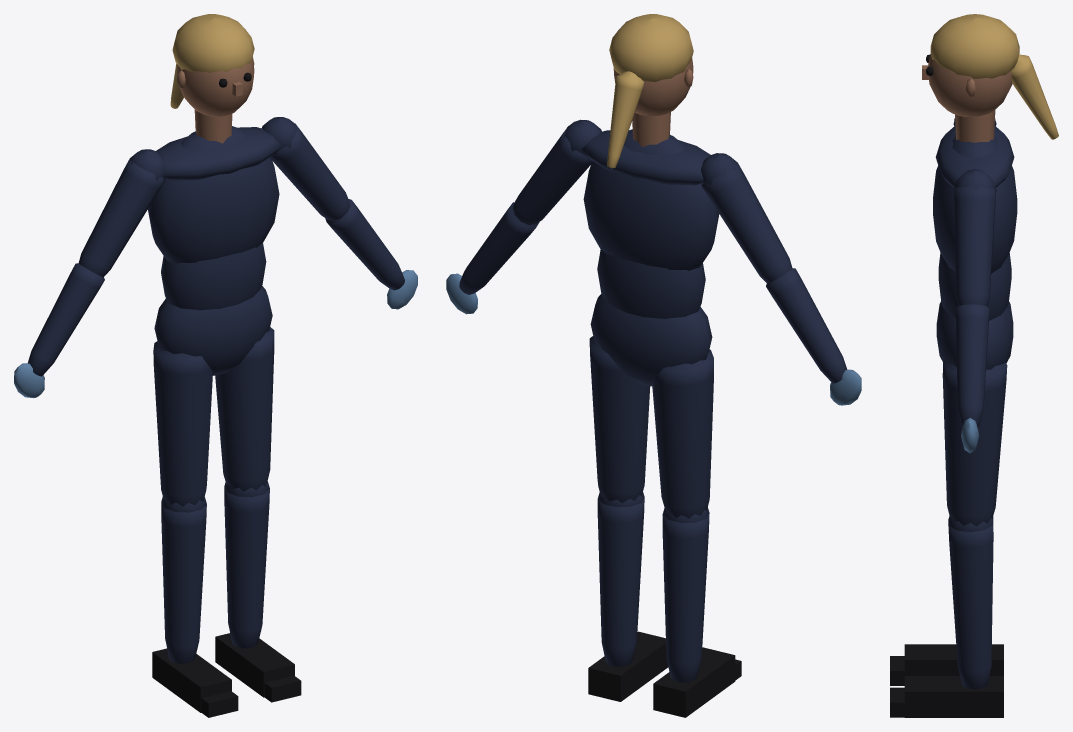
The model's file is Lind.obj.
3 renders of one model, left to right at view 1: azimuth 30°, elevation 25°; view 2: azimuth 150°, elevation 25°; view 3: azimuth 270°, elevation 25°, orthographic. The views are drawn at different scales.
Visible parts, largest first — view 1: Lind; view 2: Lind; view 3: Lind.
Boxes of the visible parts, bbox=[...] form: Lind: bbox=[14, 14, 417, 717]; Lind: bbox=[446, 14, 861, 717]; Lind: bbox=[890, 14, 1058, 717].
Size of the model in its own units: 1.11 by 1.73 by 0.3909.
